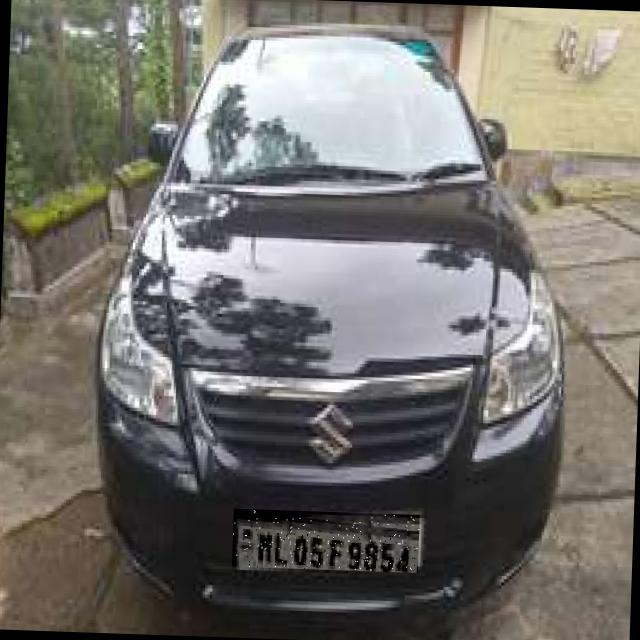Plate: (233, 510, 421, 574)
